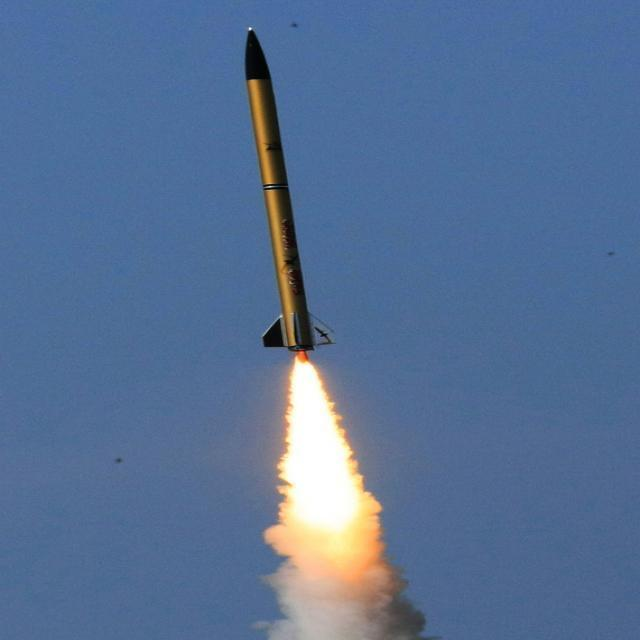missile: (240, 32, 336, 359)
